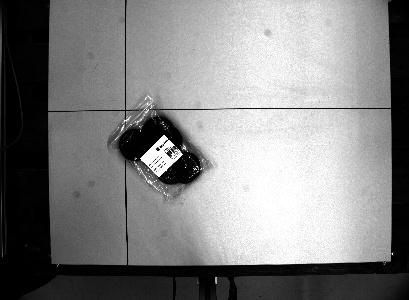t1: (102, 93, 212, 204)
